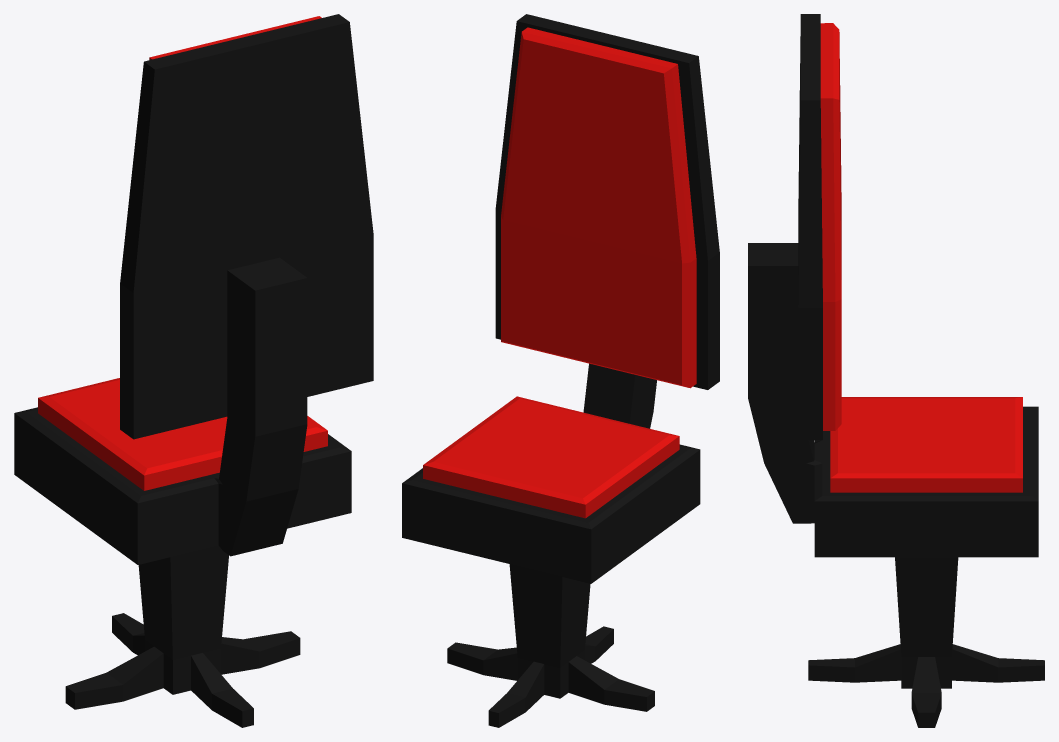
Rendered from Office chair Boss.fbx.
3 renders of one model, left to right at view 1: azimuth 30°, elevation 25°; view 2: azimuth 150°, elevation 25°; view 3: azimuth 270°, elevation 25°, orthographic. The views are drawn at different scales.
Parts seen in each view (by area): view 1: Office Chair.001; view 2: Office Chair.001; view 3: Office Chair.001.
Part boxes in pixels (x1,y1,x2,y2): Office Chair.001: (14,14,373,727); Office Chair.001: (402,14,719,727); Office Chair.001: (748,14,1044,727).
Bounding box in the file's own units: 61.06 × 166 × 71.98.
